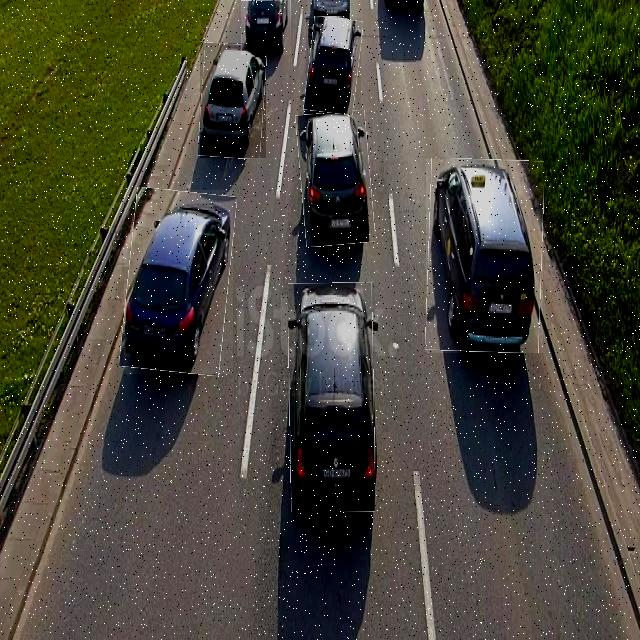Car: (426, 159, 543, 353), (124, 190, 233, 374), (289, 283, 375, 512), (298, 112, 373, 246), (200, 43, 266, 158), (306, 18, 361, 114), (241, 0, 291, 55)
